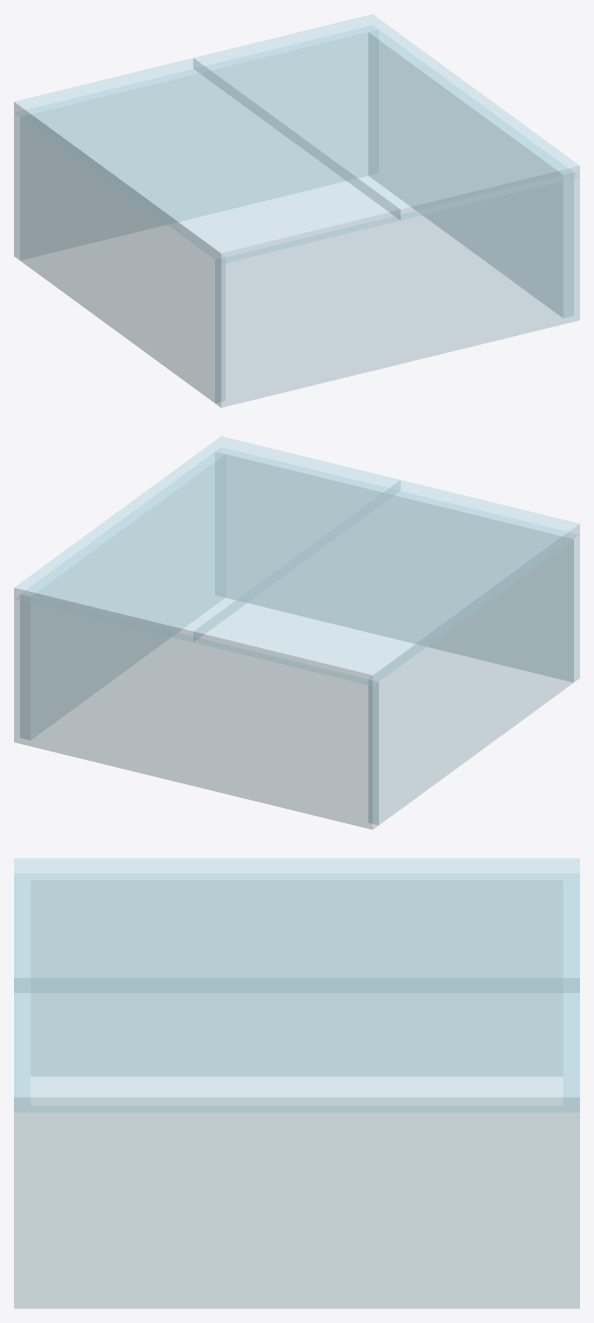
File: loot_vitrine_shards.glb
The picture shows the model from 3 angles, top to bottom: view 1: azimuth 30°, elevation 25°; view 2: azimuth 150°, elevation 25°; view 3: azimuth 270°, elevation 25°; orthographic projection. The views are drawn at different scales.
Visible parts, largest first — view 1: shard_3, shard_4, shard_1, shard_2, shard_5, shard_6; view 2: shard_4, shard_3, shard_1, shard_2, shard_5, shard_6; view 3: shard_6, shard_5, shard_1, shard_2, shard_3, shard_4.
Boxes of the visible parts, box(x1,y1,x2,y2) form: shard_3: box(215, 172, 579, 407); shard_4: box(14, 25, 377, 260); shard_1: box(14, 58, 400, 264); shard_2: box(193, 14, 579, 220); shard_5: box(20, 115, 225, 402); shard_6: box(368, 30, 573, 317); shard_4: box(14, 594, 378, 829); shard_3: box(216, 447, 579, 682); shard_1: box(193, 480, 579, 686); shard_2: box(14, 436, 400, 642); shard_5: box(368, 537, 573, 824); shard_6: box(20, 452, 225, 739); shard_6: box(30, 1106, 563, 1308); shard_5: box(31, 873, 562, 1076); shard_1: box(14, 858, 579, 992); shard_2: box(14, 978, 579, 1112); shard_3: box(14, 873, 30, 1308); shard_4: box(563, 873, 579, 1308).
Size of the model in its own units: 0.34 by 0.14 by 0.34.
